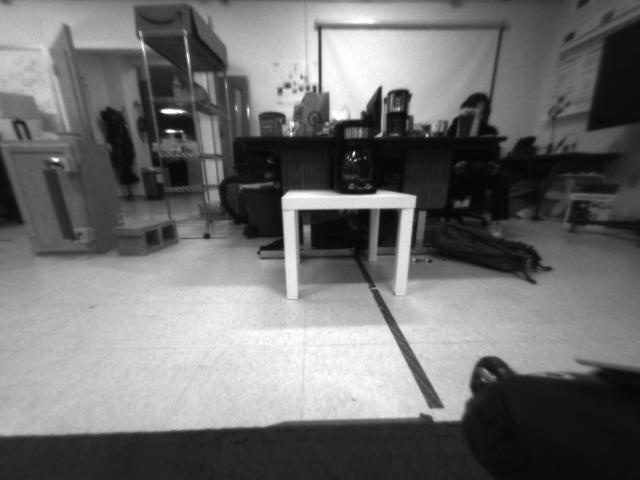coffee_pot: (331, 121, 381, 193)
